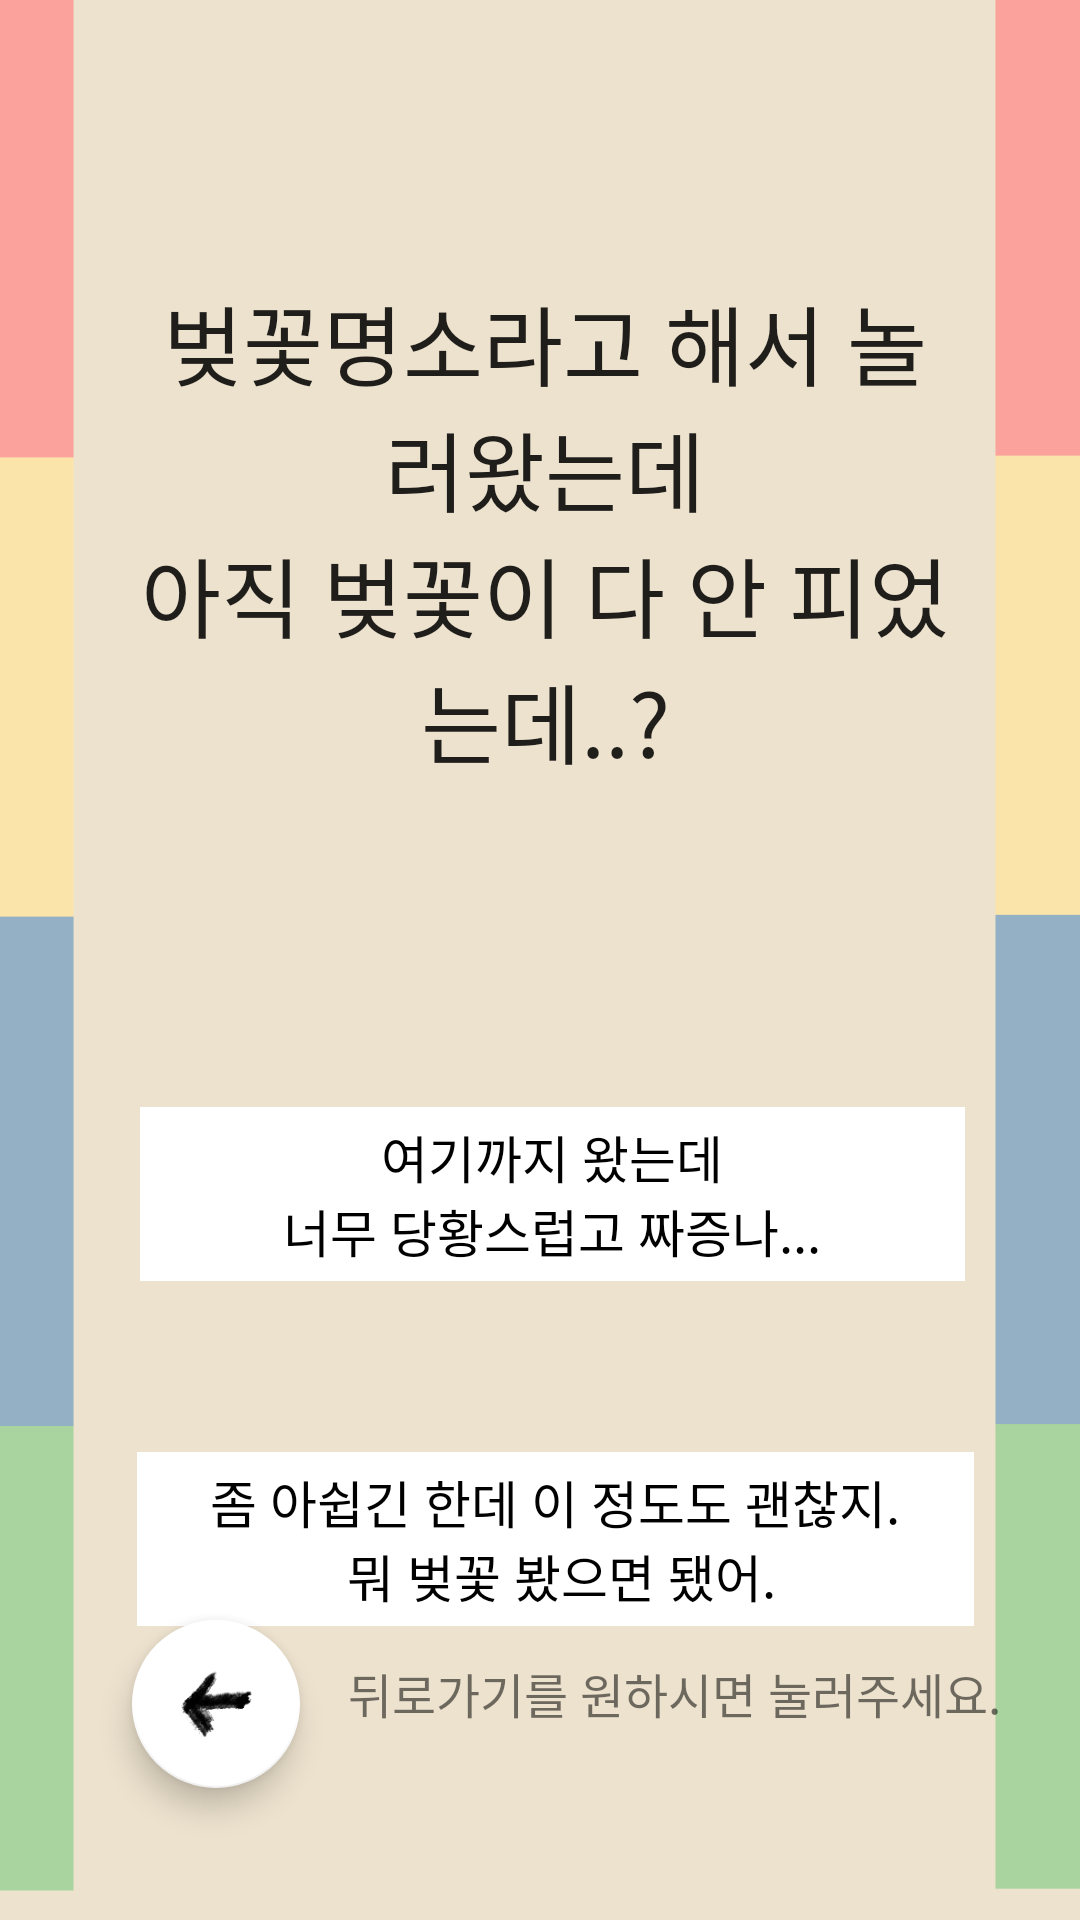

Icon click points for this 1080x1920 phone screenshot, format (x,y):
back: (216,1704)
